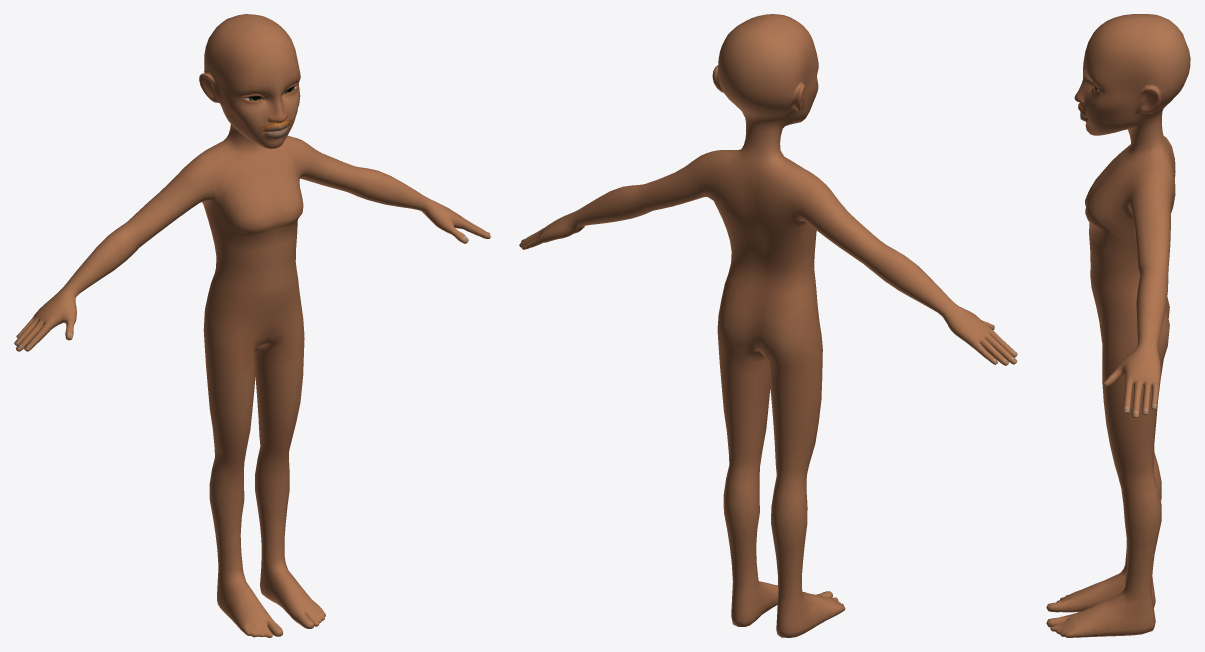
File: frame_0089.glb
The picture shows the model from 3 angles, left to right: view 1: azimuth 30°, elevation 25°; view 2: azimuth 150°, elevation 25°; view 3: azimuth 270°, elevation 25°; orthographic projection. The views are drawn at different scales.
Visible parts, largest first — view 1: frame_0089_head_geo; view 2: frame_0089_head_geo; view 3: frame_0089_head_geo.
Boxes of the visible parts, box(x1,y1,x2,y2) form: frame_0089_head_geo: box(14, 14, 490, 637); frame_0089_head_geo: box(519, 14, 1017, 637); frame_0089_head_geo: box(1046, 14, 1190, 637).
Size of the model in its own units: 1.28 by 1.5 by 0.3253.
3 materials, 3 textured.
